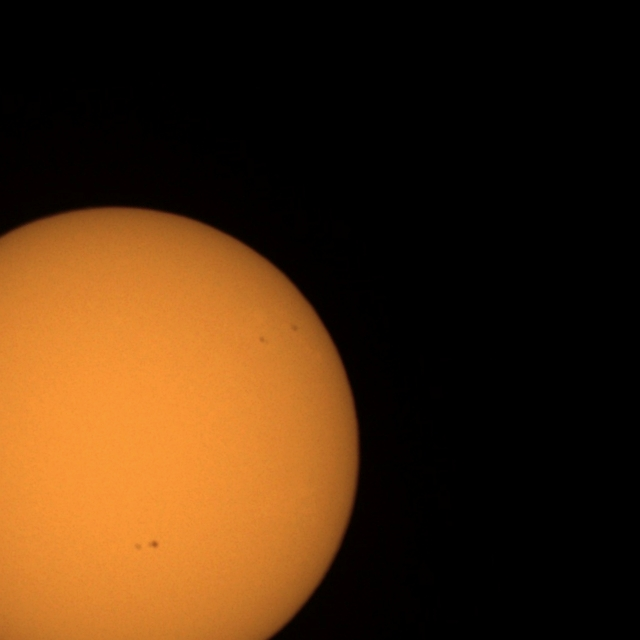sunspot: (133, 538, 160, 552), (148, 539, 160, 550), (289, 322, 300, 334), (258, 335, 269, 346)
